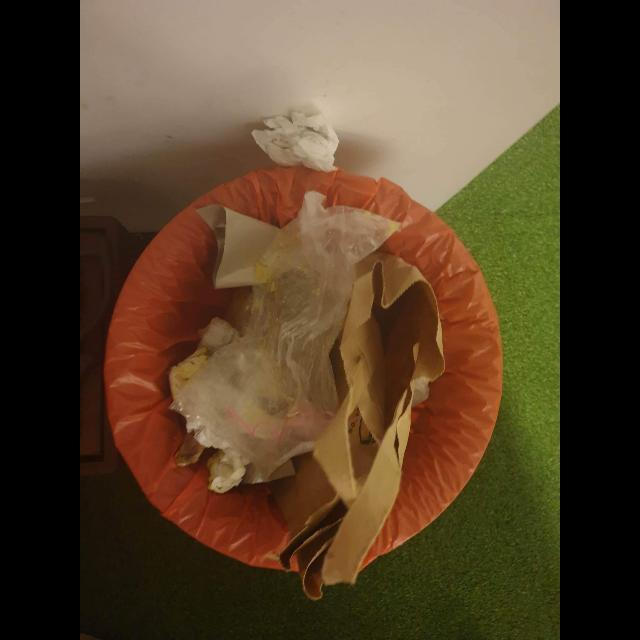paper: (268, 255, 446, 601), (196, 204, 278, 291), (250, 107, 340, 174)
plastic: (169, 191, 401, 495)
